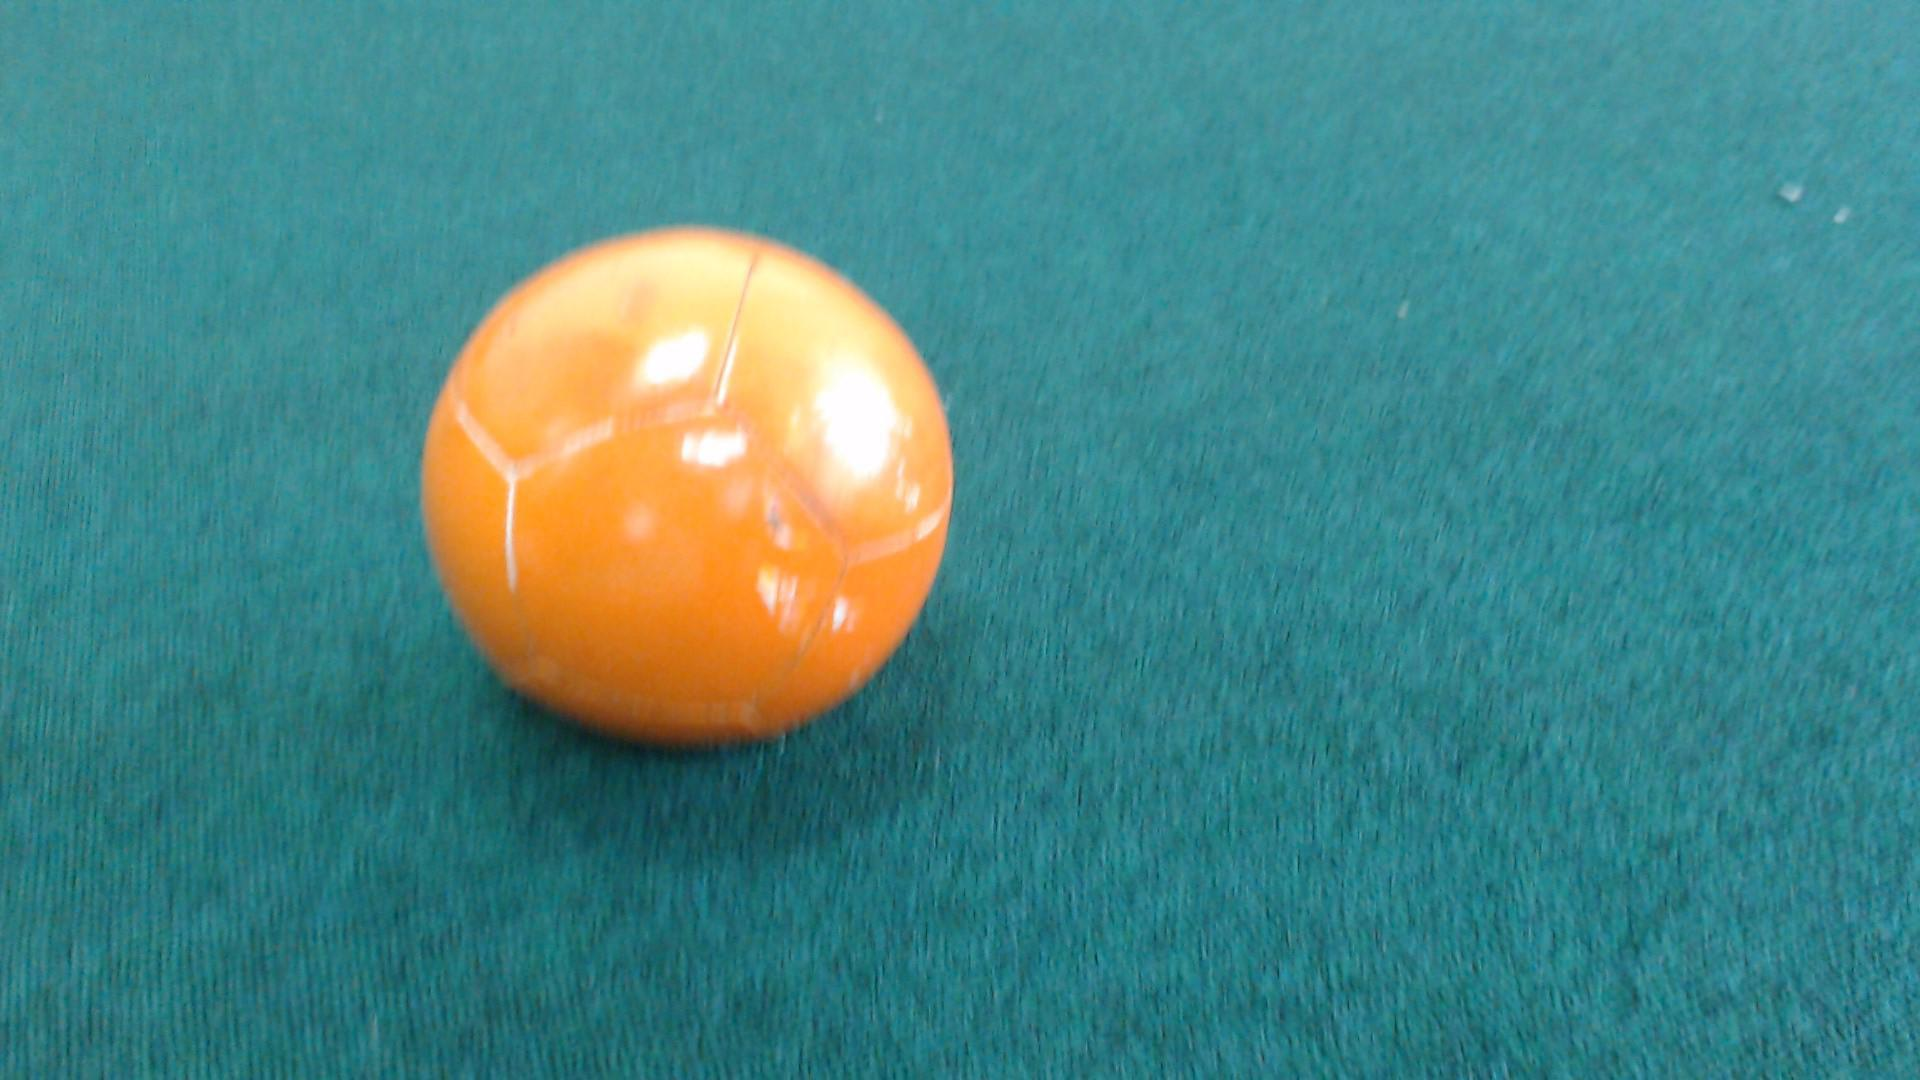bola: (388, 215, 976, 770)
